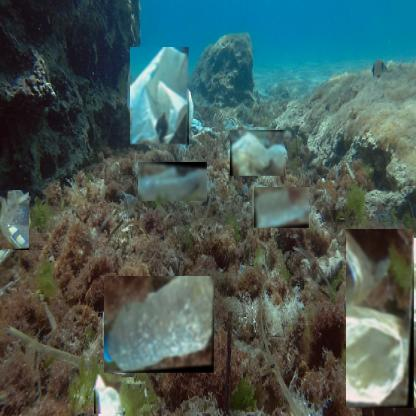bottle: (104, 276, 215, 375), (138, 162, 208, 202), (254, 187, 310, 229)
waste: (346, 229, 415, 409), (130, 48, 190, 148), (230, 130, 285, 177), (0, 190, 30, 251), (94, 374, 123, 415)
